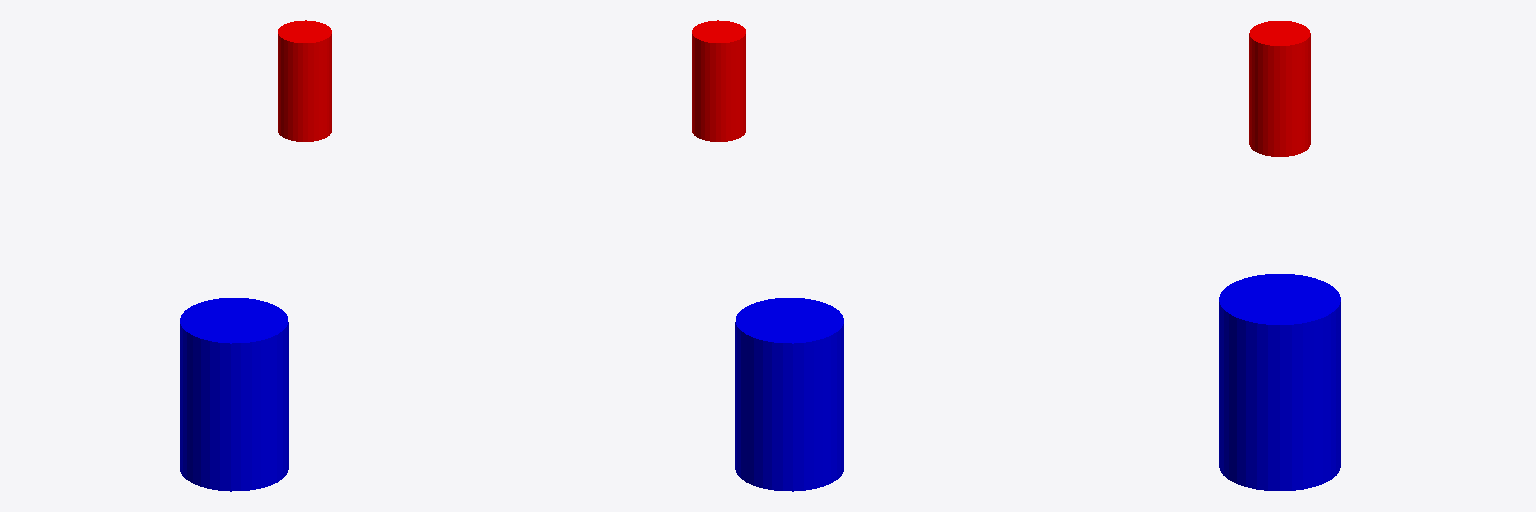
The robot description file, URDF, robot "two_link_robot":
<?xml version="1.0"?>
<robot name="two_link_robot">

  <link name="base_link">
    <visual>
      <origin xyz="0 0 0.3" rpy="0 0 0"/>
      <geometry>
        <cylinder length="0.6" radius="0.2"/>
      </geometry>
      <material name="blue">
        <color rgba="0 0 1 1"/>
      </material>
    </visual>
    <collision>
      <origin xyz="0 0 0.3" rpy="0 0 0"/>
      <geometry>
        <cylinder length="0.6" radius="0.2"/>
      </geometry>
    </collision>
    <inertial>
      <origin xyz="0 0 0.3" rpy="0 0 0"/>
      <mass value="1.0"/>
      <inertia ixx="0.01" ixy="0" ixz="0" iyy="0.01" iyz="0" izz="0.02"/>
    </inertial>
  </link>

  <link name="second_link">
    <visual>
      <origin xyz="0.3 0 0.9" rpy="0 0 0"/>
      <geometry>
        <cylinder length="0.4" radius="0.1"/>
      </geometry>
      <material name="red">
        <color rgba="1 0 0 1"/>
      </material>
    </visual>
    <collision>
      <origin xyz="0.3 0 0.9" rpy="0 0 0"/>
      <geometry>
        <cylinder length="0.4" radius="0.1"/>
      </geometry>
    </collision>
    <inertial>
      <origin xyz="0.3 0 0.9" rpy="0 0 0"/>
      <mass value="0.5"/>
      <inertia ixx="0.005" ixy="0" ixz="0" iyy="0.005" iyz="0" izz="0.01"/>
    </inertial>
  </link>

  <joint name="joint1" type="revolute">
    <parent link="base_link"/>
    <child link="second_link"/>
    <origin xyz="0 0 0.6" rpy="0 0 0"/>
    <axis xyz="0 0 1"/>
    <limit lower="-1.57" upper="1.57" effort="1000" velocity="1.0"/>
  </joint>

</robot>

--- What the picture shows (computed from the rendered views, not written in the file) ---
Views: 3 orthographic renders of the robot side by side, from view 1: azimuth 30°, elevation 25°; view 2: azimuth 150°, elevation 25°; view 3: azimuth 270°, elevation 25°.
Model two_link_robot with 2 links and 1 joints (1 revolute), rooted at base_link, posed all joints at 0.
Visible links, largest first — view 1: base_link, second_link; view 2: base_link, second_link; view 3: base_link, second_link.
Link boxes in pixels (x1,y1,x2,y2): base_link: (180,298,288,491); second_link: (278,20,331,141); base_link: (735,298,843,491); second_link: (692,20,745,141); base_link: (1219,274,1340,490); second_link: (1249,21,1310,156).
Size in the robot's own frame: 0.6 by 0.4 by 1.7 metres.
Geometry: primitives only (box / cylinder / sphere), no mesh files.